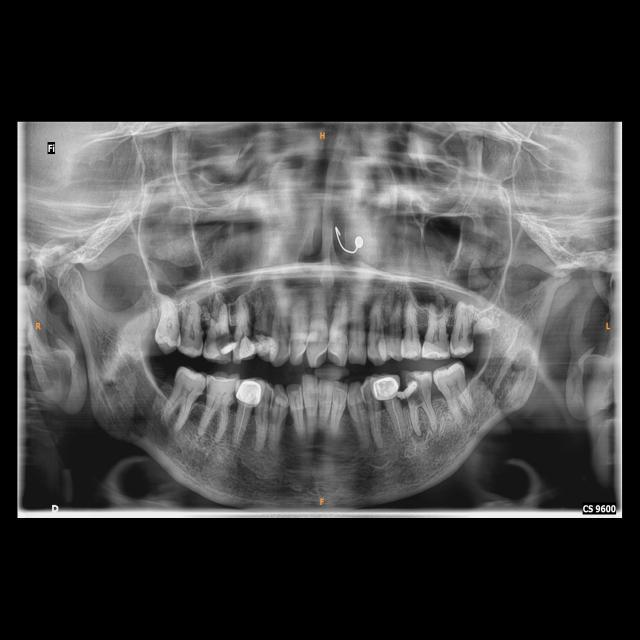dentin-curugu: (408, 368, 423, 408), (216, 326, 230, 359), (251, 321, 270, 342), (466, 318, 476, 348)
kanal-tedavisi: (389, 402, 405, 439), (235, 406, 248, 445)
kaplama: (235, 379, 264, 406), (374, 374, 398, 401)
